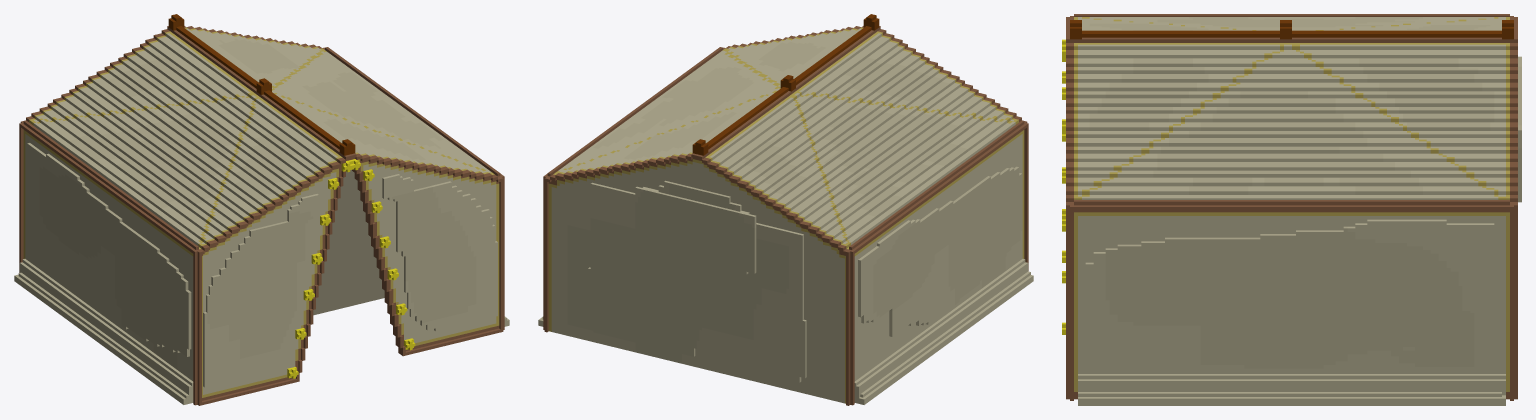
File: tent_rectangle.fbx
3 views of the same model, side by side, from view 1: azimuth 30°, elevation 25°; view 2: azimuth 150°, elevation 25°; view 3: azimuth 270°, elevation 25° (orthographic). The views are drawn at different scales.
Parts seen in each view (by area): view 1: tent_rectangle; view 2: tent_rectangle; view 3: tent_rectangle.
Boxes of the visible parts, left/top/right/bottom form: tent_rectangle: left=14, top=14, right=509, bottom=405; tent_rectangle: left=538, top=14, right=1033, bottom=405; tent_rectangle: left=1062, top=14, right=1521, bottom=405.
Bounding box in the file's own units: 1200 × 1160 × 790.
